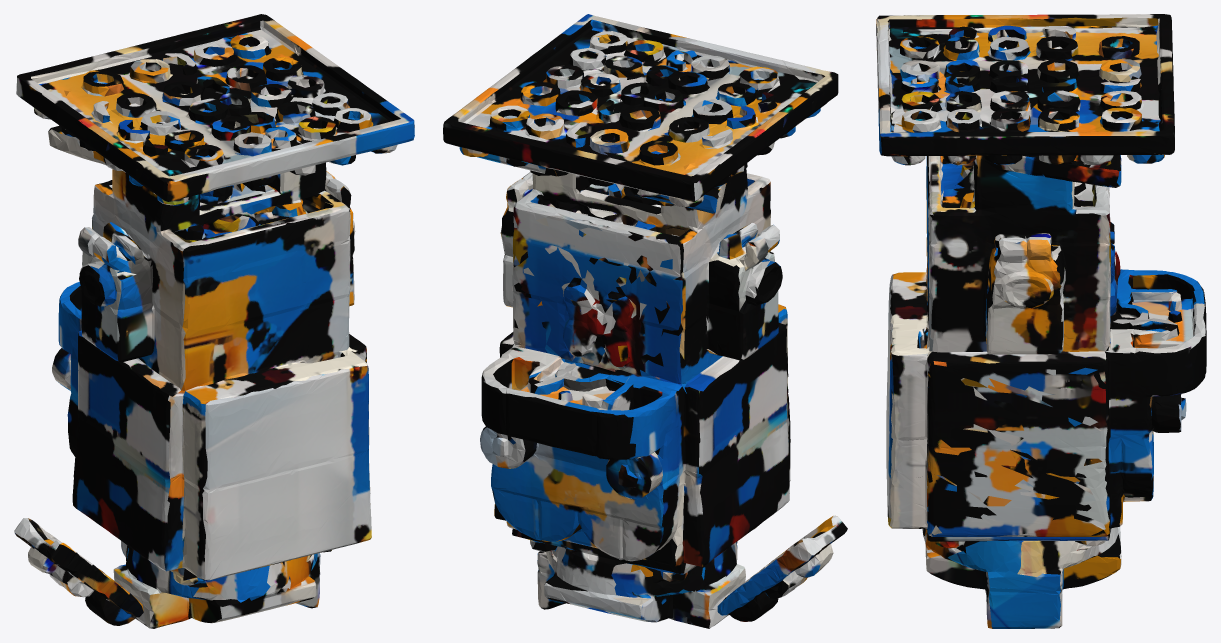
File: 13-donald-hy-fit.glb
The picture shows the model from 3 angles, left to right: view 1: azimuth 30°, elevation 25°; view 2: azimuth 150°, elevation 25°; view 3: azimuth 270°, elevation 25°; orthographic projection.
Parts seen in each view (by area): view 1: geometry_0; view 2: geometry_0; view 3: geometry_0.
Part boxes in pixels (x1=…): geometry_0: x1=14, y1=14, x2=414, y2=628; geometry_0: x1=443, y1=14, x2=847, y2=628; geometry_0: x1=876, y1=14, x2=1206, y2=628.
Size of the model in its own units: 154 by 241 by 140.
1 material, 1 textured.
